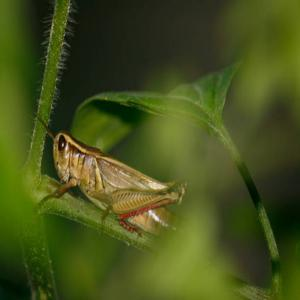locust: (35, 117, 228, 236)
